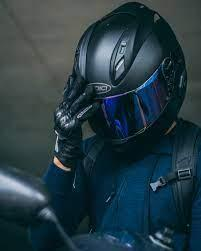helmet: (62, 0, 199, 158)
